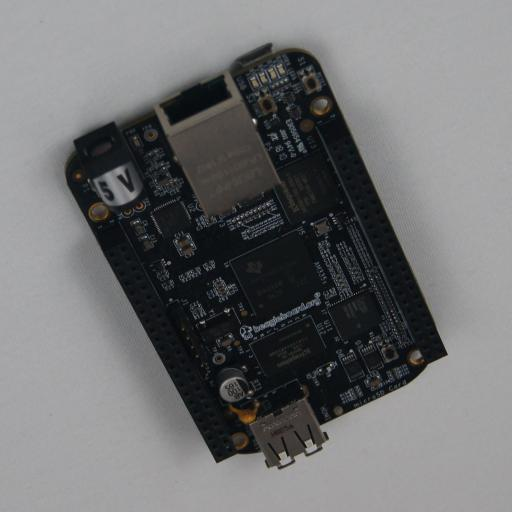Beaglebone Black: (64, 43, 448, 469)
